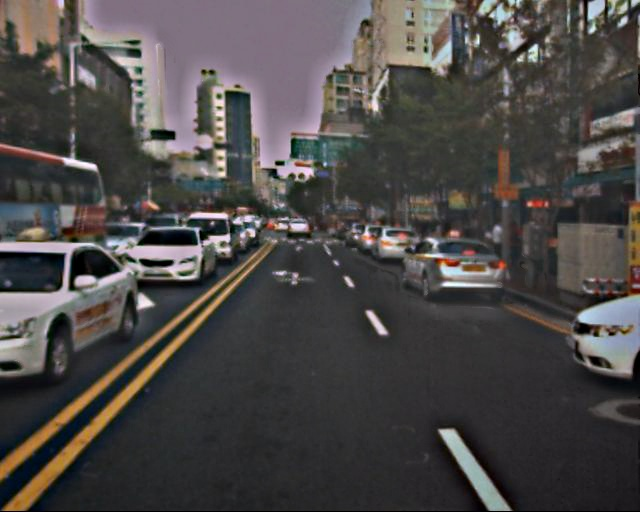person: (487, 219, 509, 273)
